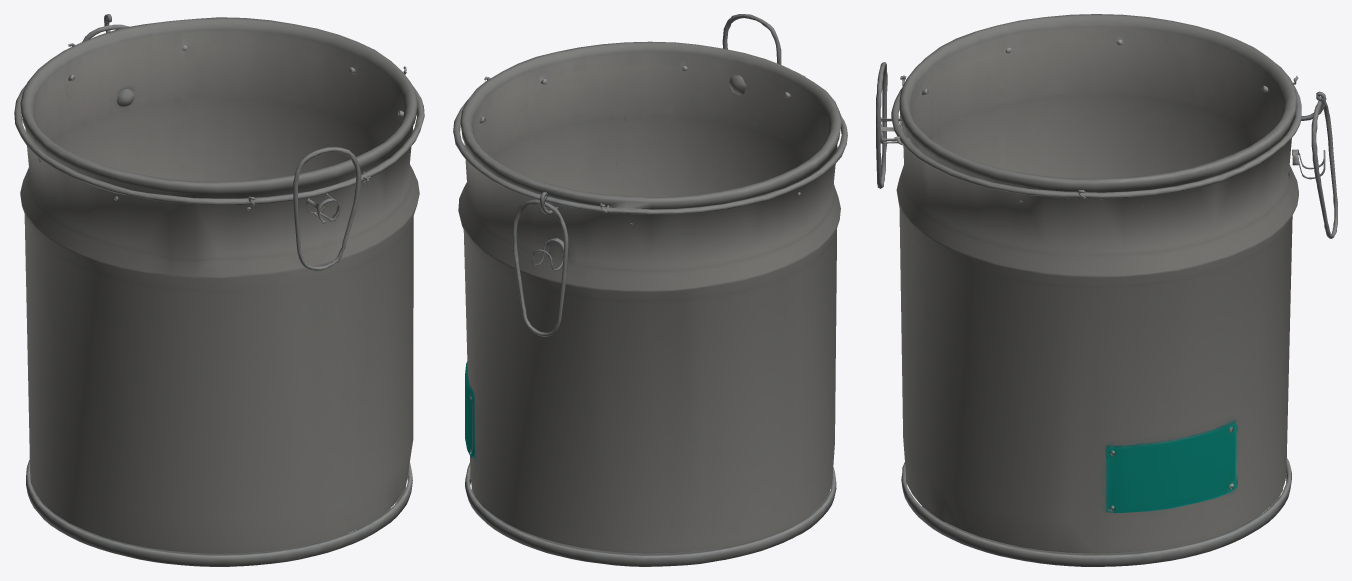
3 renders of one model, left to right at view 1: azimuth 30°, elevation 25°; view 2: azimuth 150°, elevation 25°; view 3: azimuth 270°, elevation 25°, orthographic. The views are drawn at different scales.
Parts seen in each view (by area): view 1: tripo_node_07038eee-4213-440c-9c2b-3829c19c0b34; view 2: tripo_node_07038eee-4213-440c-9c2b-3829c19c0b34; view 3: tripo_node_07038eee-4213-440c-9c2b-3829c19c0b34.
Boxes of the visible parts, x1,y1,x2,y2 form: tripo_node_07038eee-4213-440c-9c2b-3829c19c0b34: (14,14,424,566); tripo_node_07038eee-4213-440c-9c2b-3829c19c0b34: (453,14,847,566); tripo_node_07038eee-4213-440c-9c2b-3829c19c0b34: (876,14,1337,566).
Size of the model in its own units: 0.9004 by 0.998 by 0.998.
Materials: 1 (1 with a texture image).
